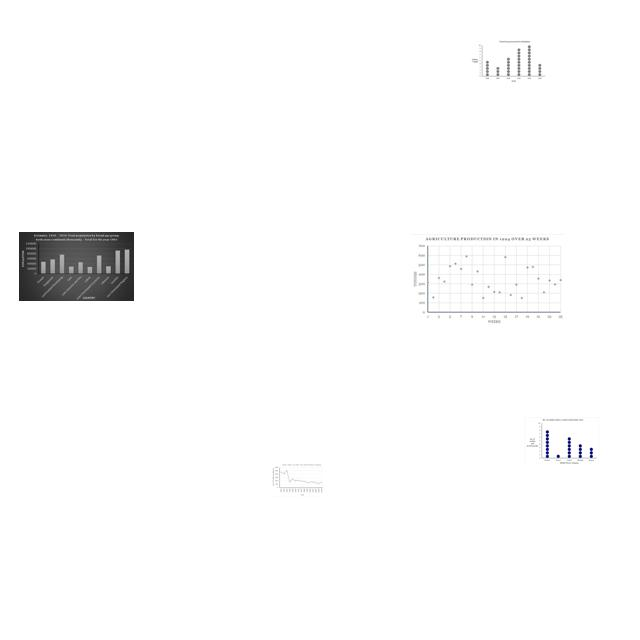Graph: (410, 234, 565, 326), (19, 232, 134, 301), (524, 417, 599, 466), (469, 39, 547, 84), (272, 463, 324, 497)
